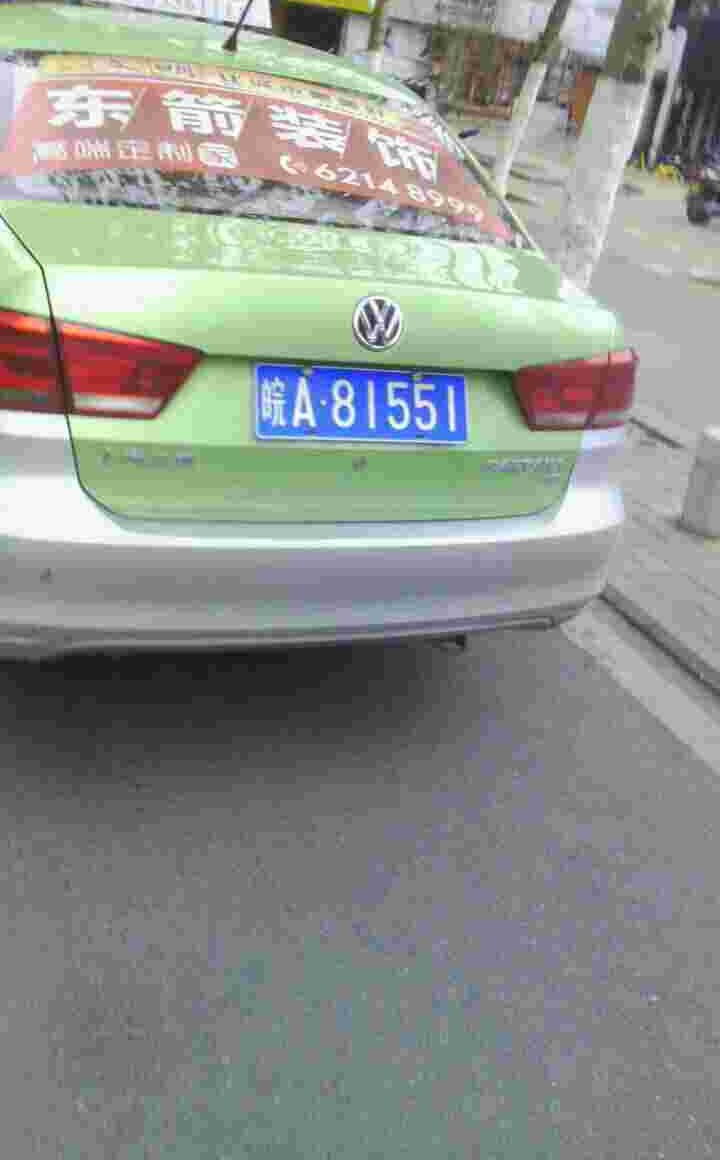license_plate: (253, 377, 461, 445)
